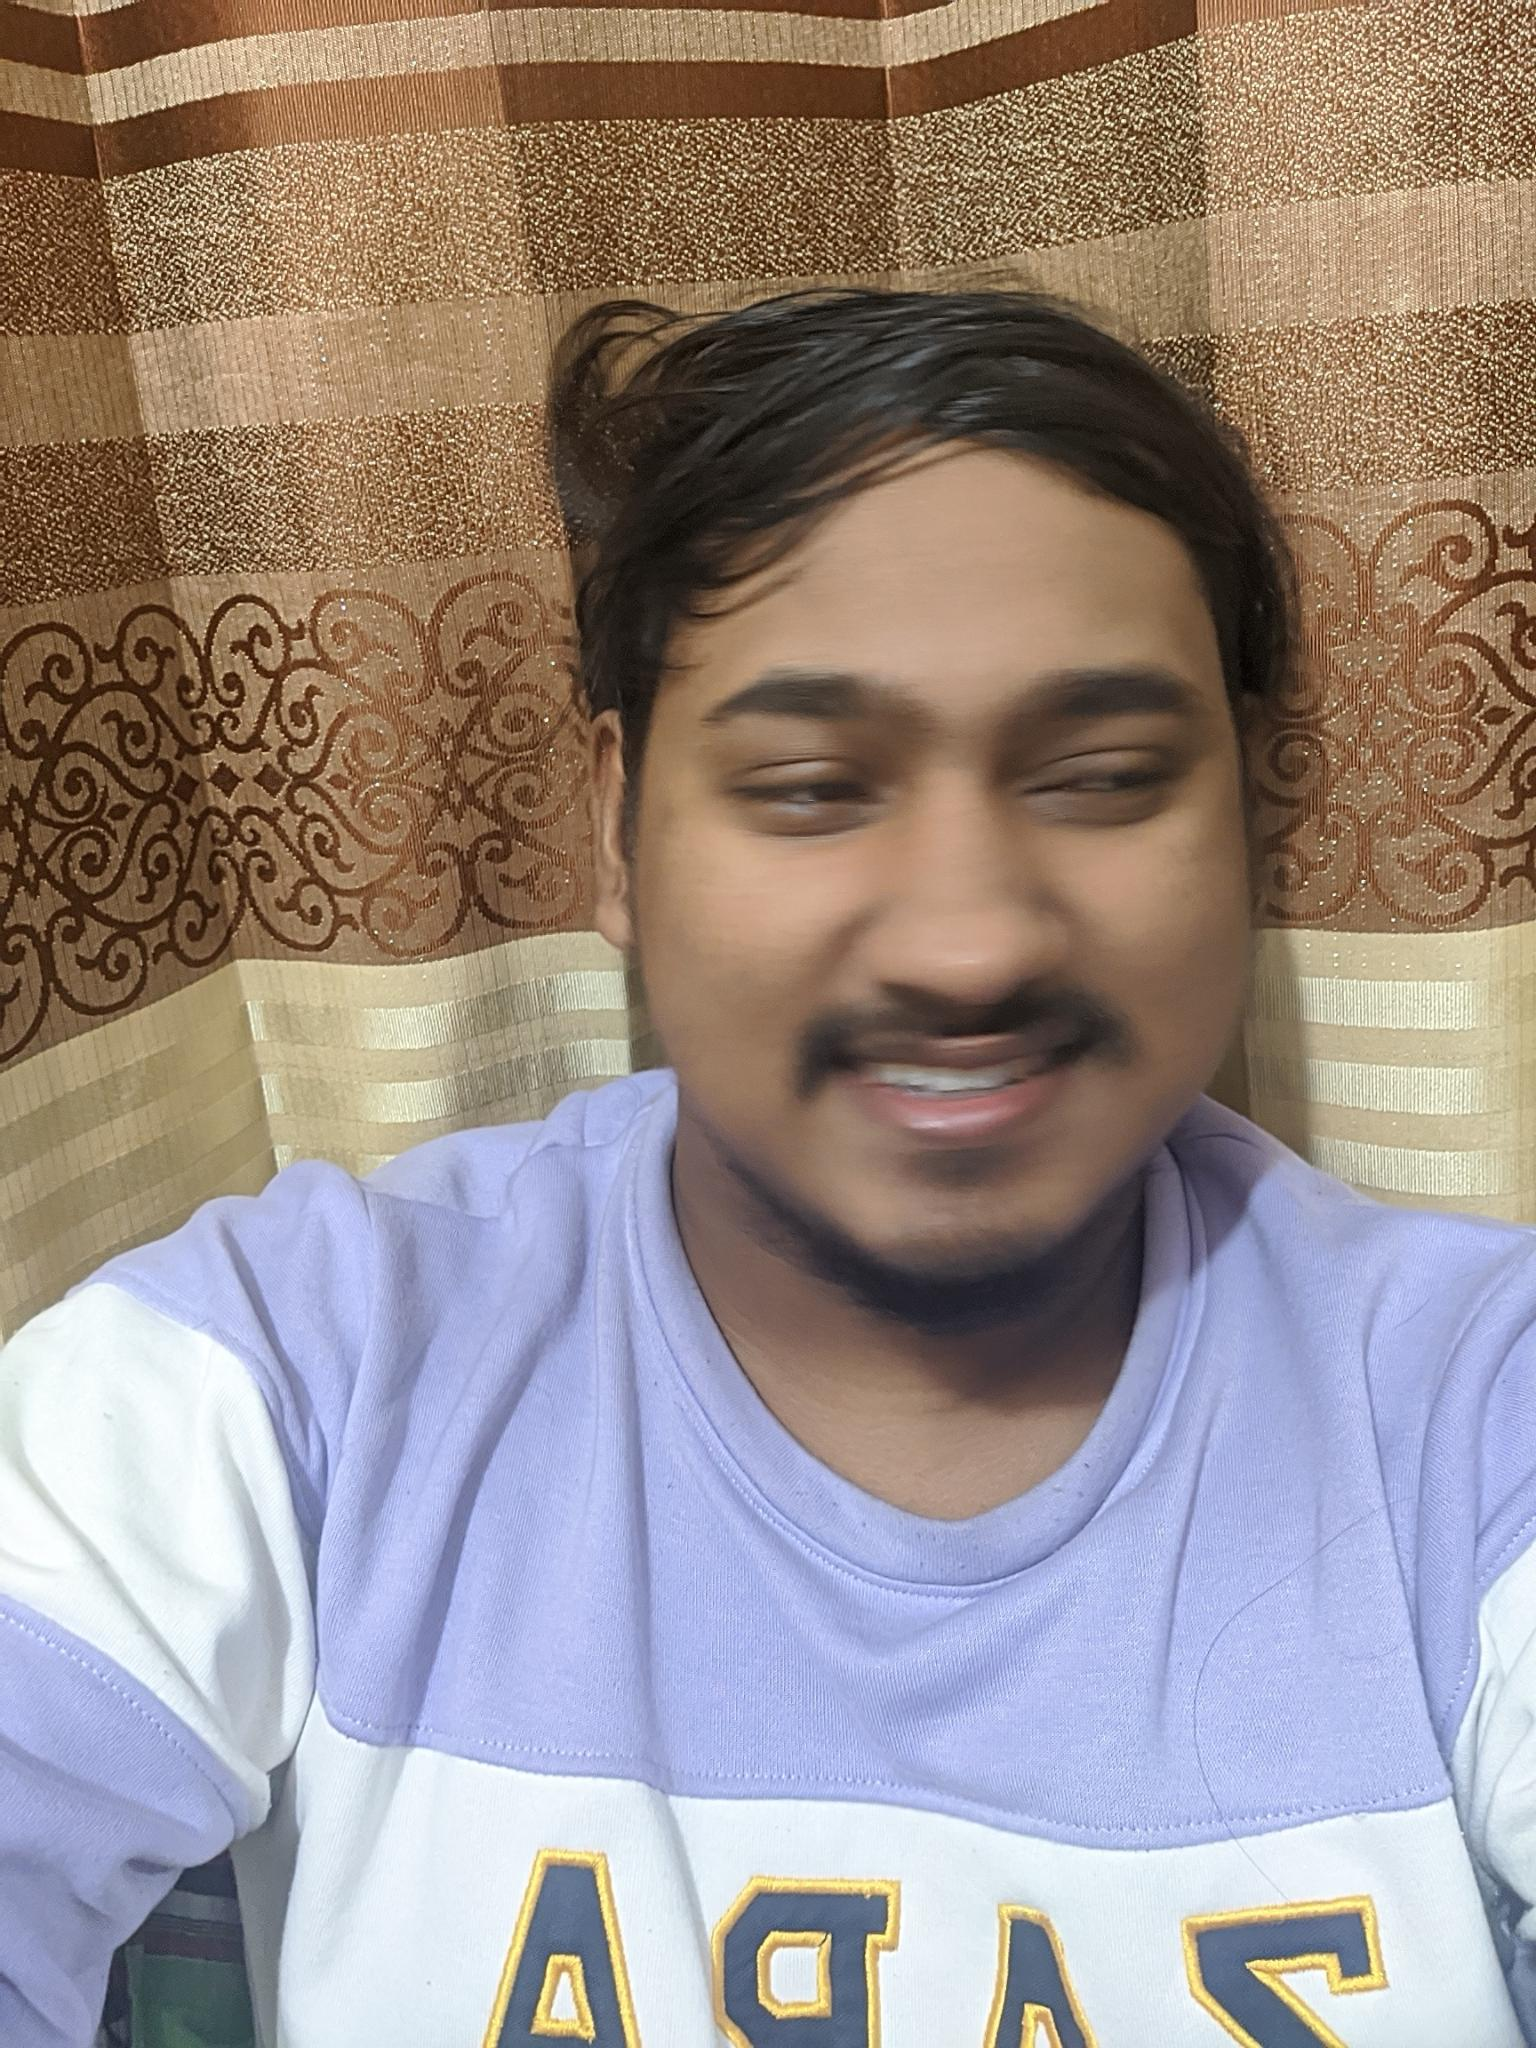Happy: (655, 597, 1244, 1311)
